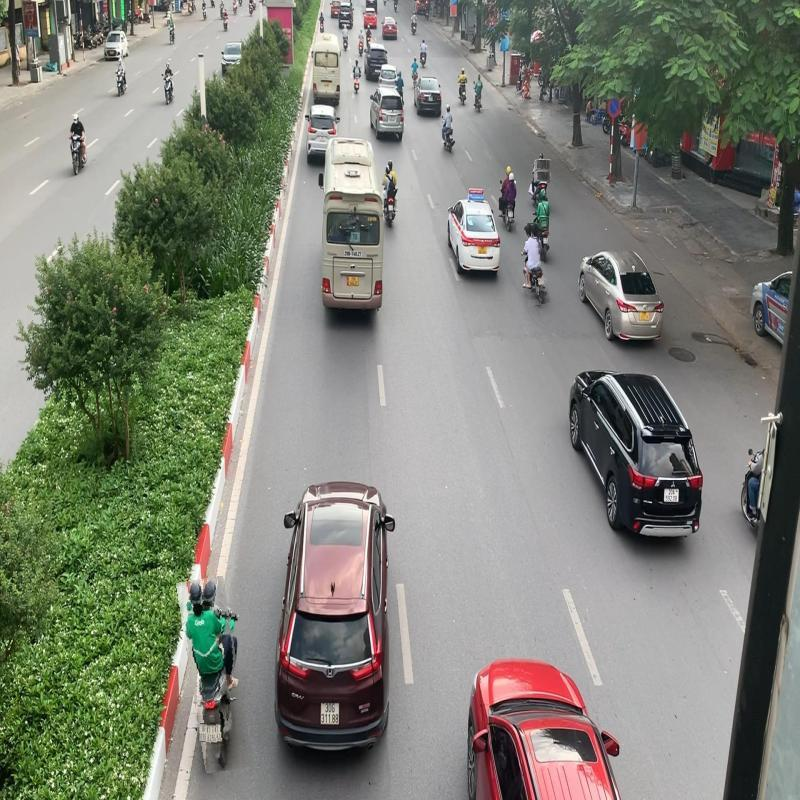helmet: (200, 578, 217, 607)
licenseplate: (200, 723, 212, 742)
motorcyclist: (184, 577, 246, 772), (519, 222, 547, 306)
nohelmet: (531, 224, 539, 238)
